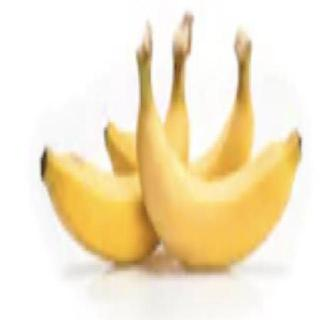banana: (135, 100, 305, 272), (38, 92, 192, 268), (104, 95, 256, 223)
